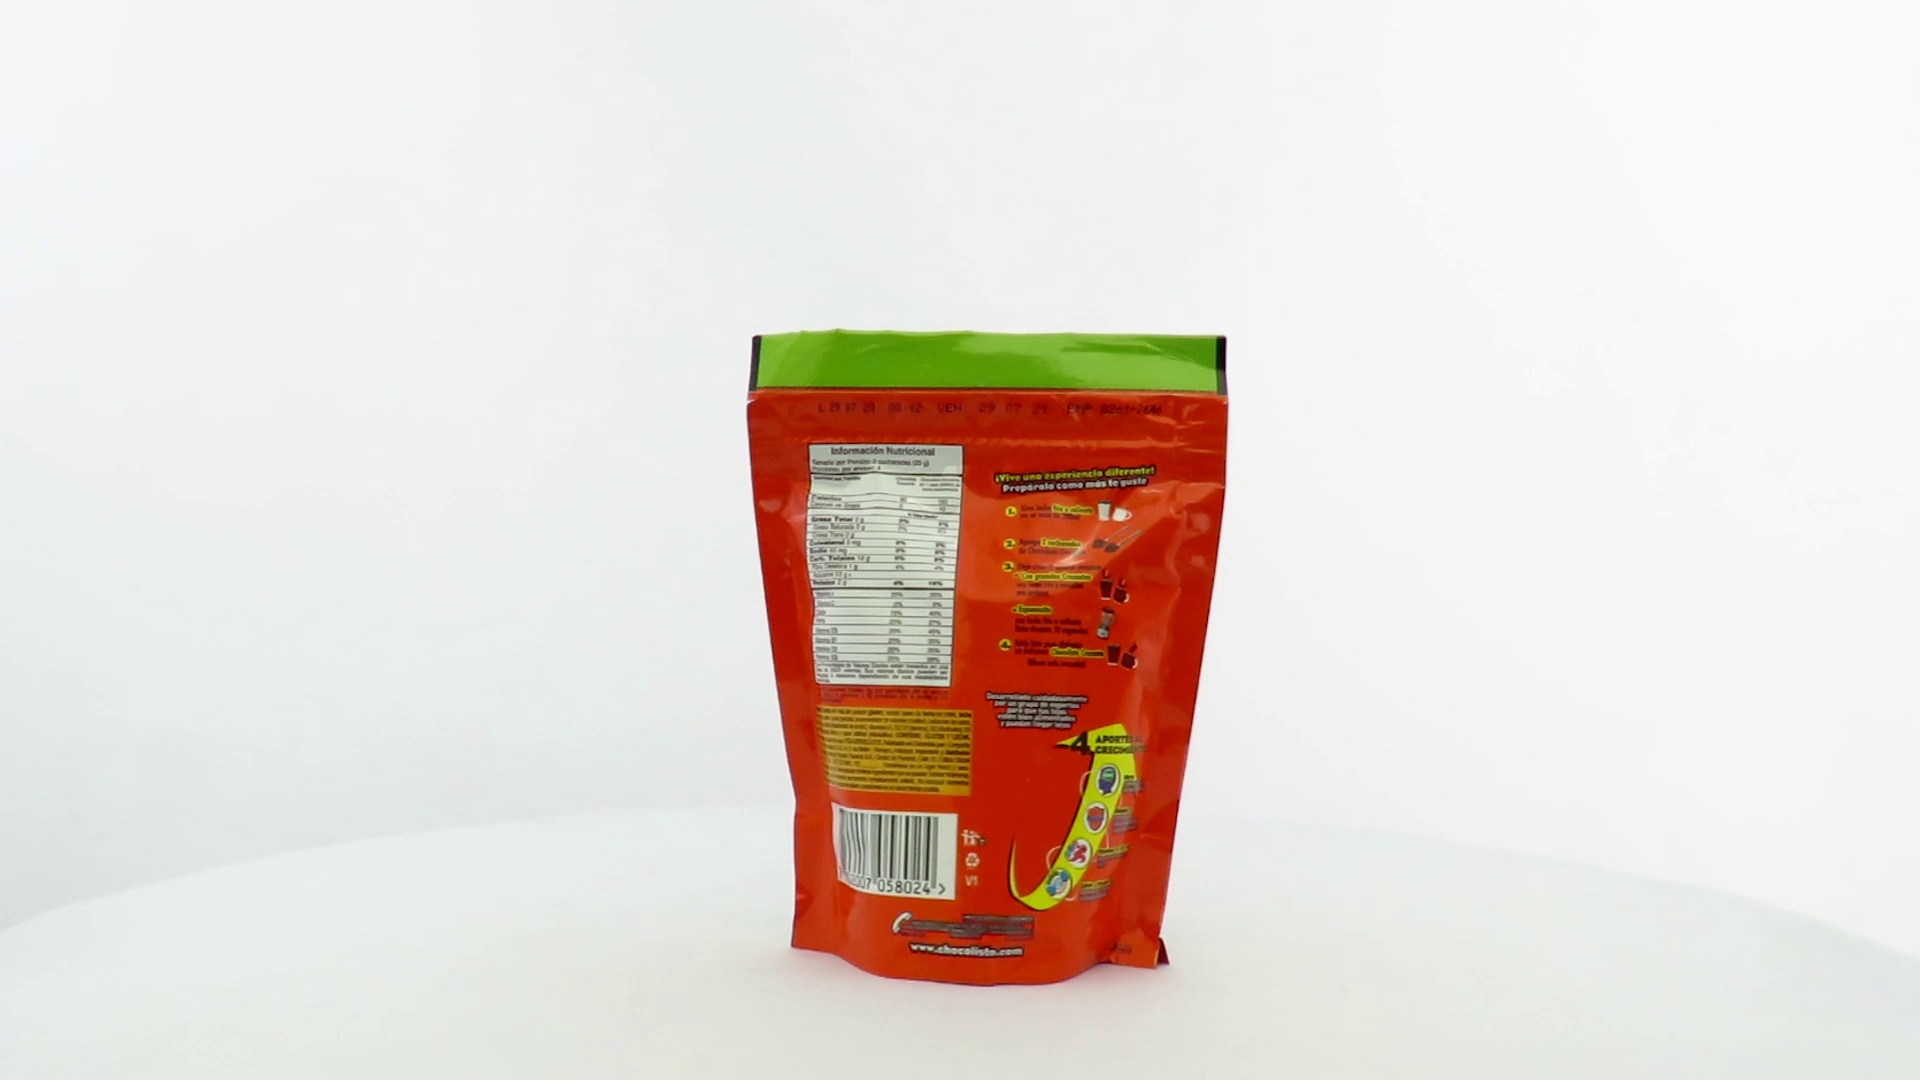COL0170102DYP10000: (741, 323, 1236, 993)
